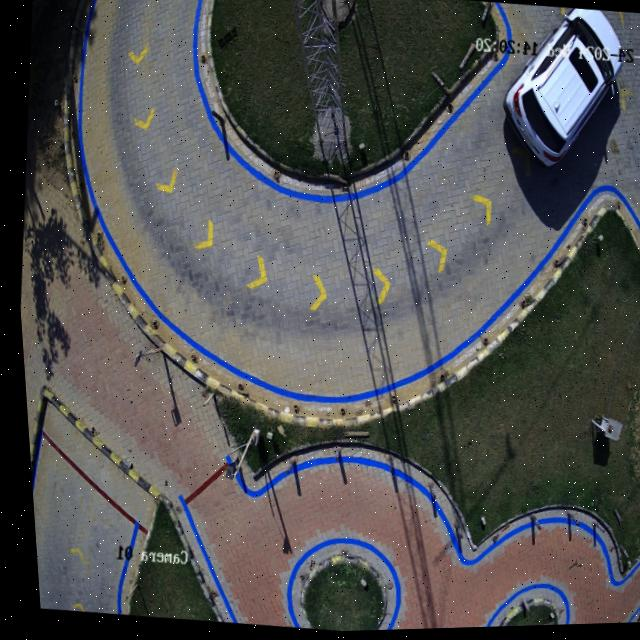car: (502, 11, 624, 170)
